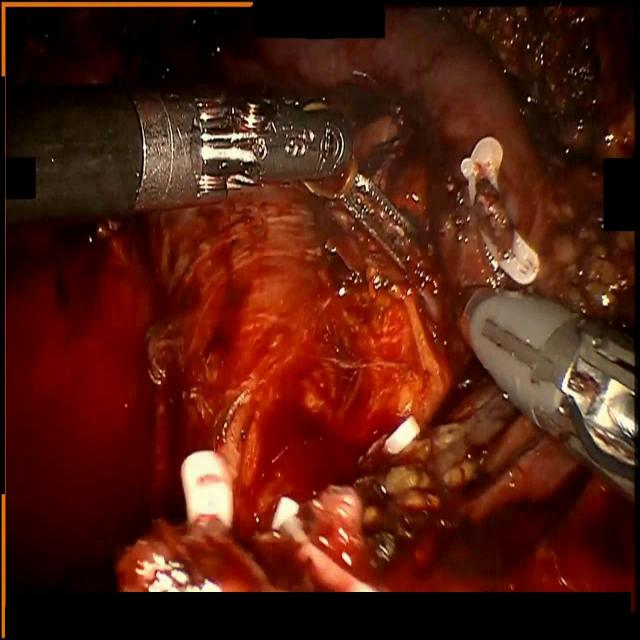surgical-area: (4, 4, 638, 595)
surgical-tool: (4, 79, 422, 275), (452, 277, 636, 500)
